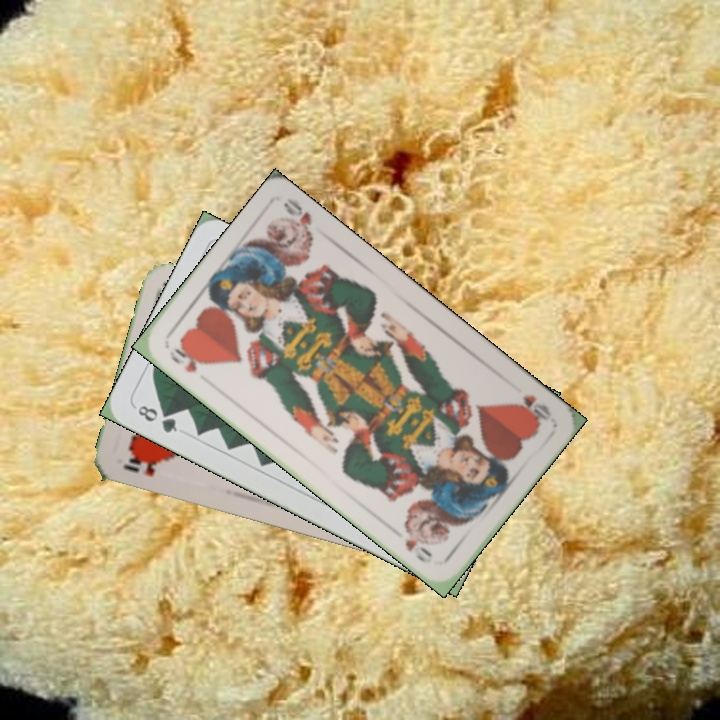G8: (133, 401, 180, 436)
HO: (510, 391, 555, 426), (165, 341, 209, 375), (119, 453, 160, 479)
